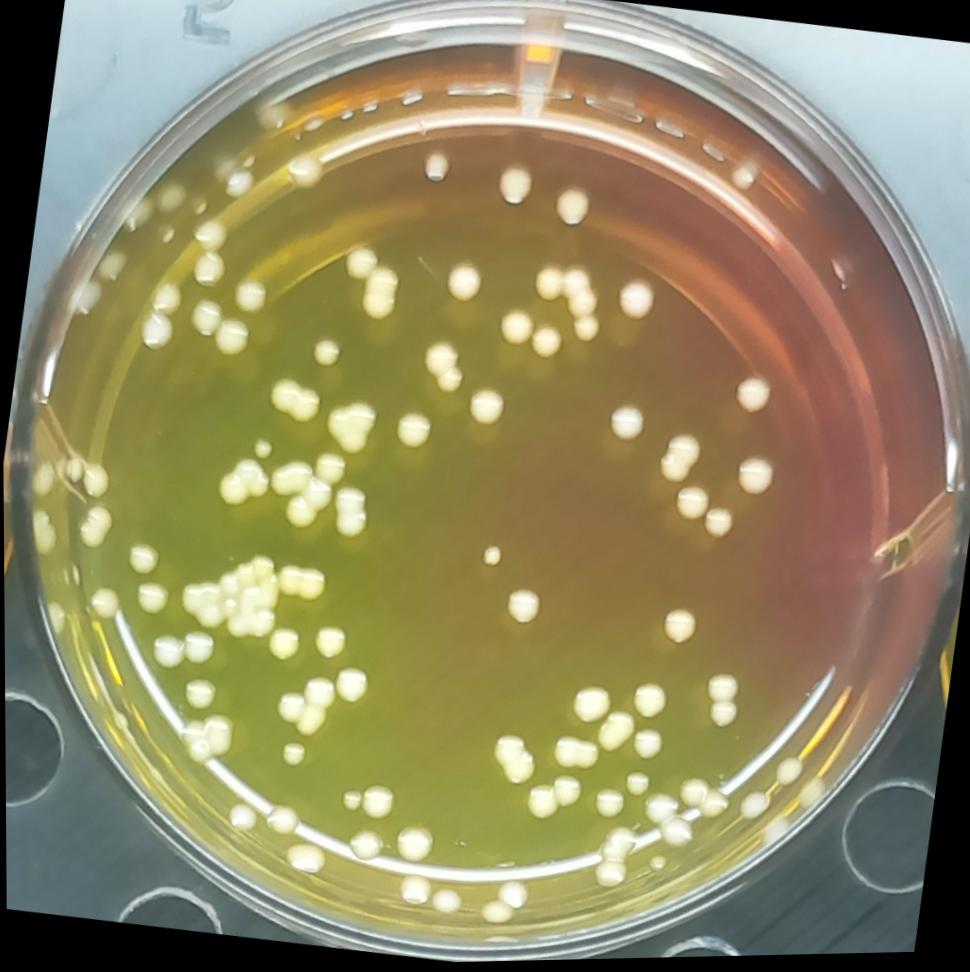staphylo-: (169, 543, 284, 645), (587, 816, 642, 897), (525, 259, 603, 316), (637, 788, 702, 855), (274, 468, 334, 540), (319, 396, 381, 460), (208, 451, 269, 515), (650, 427, 707, 493), (171, 709, 234, 766), (694, 669, 744, 736), (262, 373, 322, 427), (523, 772, 582, 826), (416, 336, 467, 398), (357, 261, 403, 329), (476, 873, 529, 932), (484, 735, 536, 794), (725, 367, 776, 426), (728, 454, 783, 508), (271, 560, 331, 607), (546, 732, 605, 779), (609, 273, 661, 326), (325, 483, 370, 544), (675, 776, 732, 824), (562, 682, 611, 736), (499, 580, 546, 634), (546, 182, 594, 234), (438, 258, 487, 308), (386, 406, 434, 455), (326, 659, 372, 710), (601, 398, 647, 448), (490, 162, 536, 212), (390, 821, 437, 868), (462, 385, 507, 432), (654, 606, 698, 654), (624, 679, 671, 723), (208, 314, 253, 359), (180, 295, 224, 341), (356, 781, 397, 829), (492, 307, 536, 351), (524, 320, 566, 366), (670, 481, 712, 527), (259, 623, 302, 667), (277, 143, 320, 186), (309, 619, 350, 664), (134, 308, 174, 354), (82, 583, 124, 625), (143, 629, 186, 670), (388, 874, 431, 915), (74, 504, 112, 550), (337, 244, 378, 286), (185, 250, 227, 291), (697, 503, 738, 545), (218, 161, 259, 203), (282, 839, 328, 876), (131, 578, 172, 618), (179, 673, 218, 715), (307, 448, 349, 487), (176, 630, 217, 669), (230, 274, 268, 316), (345, 824, 383, 865), (189, 218, 229, 256), (734, 786, 771, 827), (273, 733, 310, 773), (124, 539, 162, 577), (417, 149, 454, 187), (260, 801, 300, 836), (145, 280, 182, 317), (588, 786, 625, 823), (628, 725, 663, 763), (221, 798, 255, 835), (770, 751, 802, 790), (567, 313, 602, 348), (428, 884, 462, 919), (307, 339, 340, 373), (621, 768, 652, 799), (479, 540, 503, 570)
